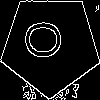O: (25, 20, 70, 59)
